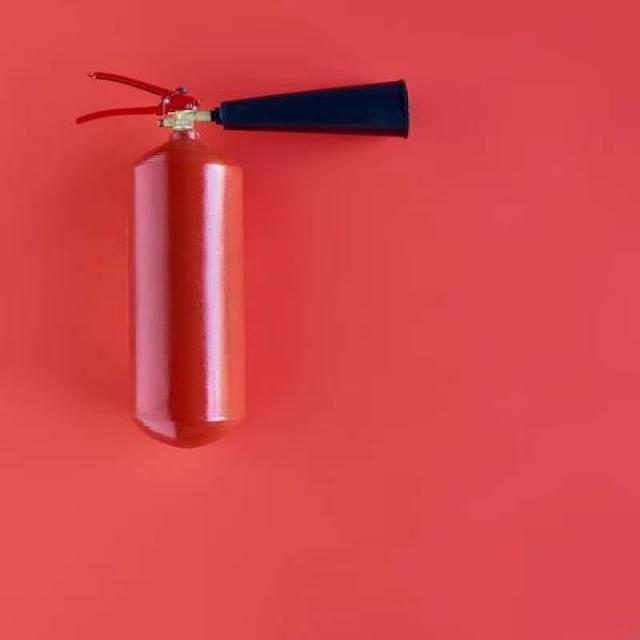fire_extinguisher: (70, 59, 423, 450)
